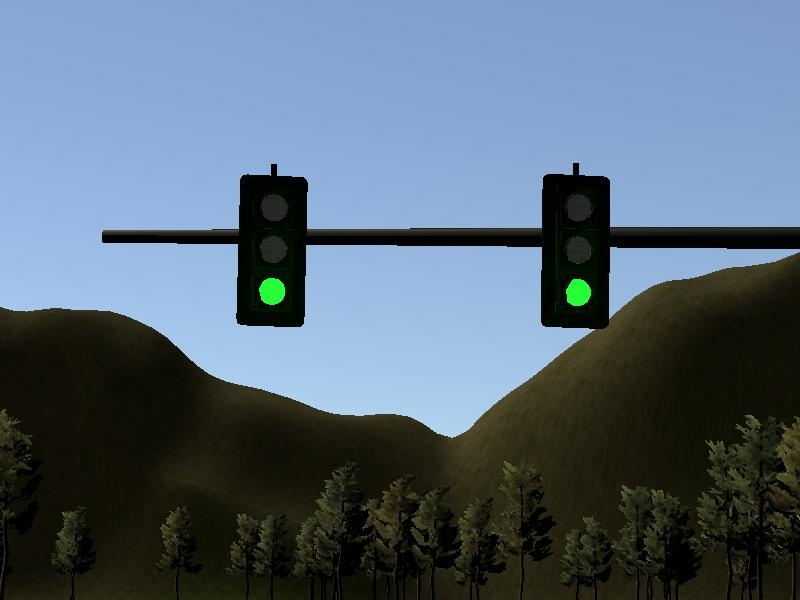traffic_light_green: (196, 166, 794, 329)
